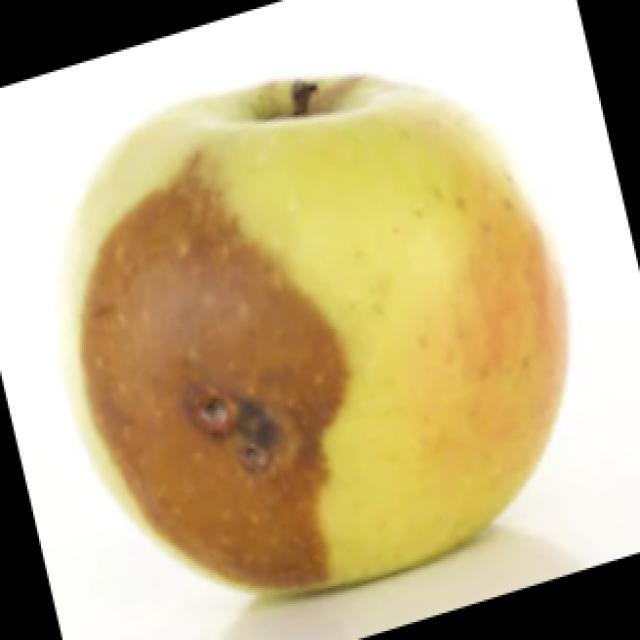Rotten: (69, 63, 575, 602)
